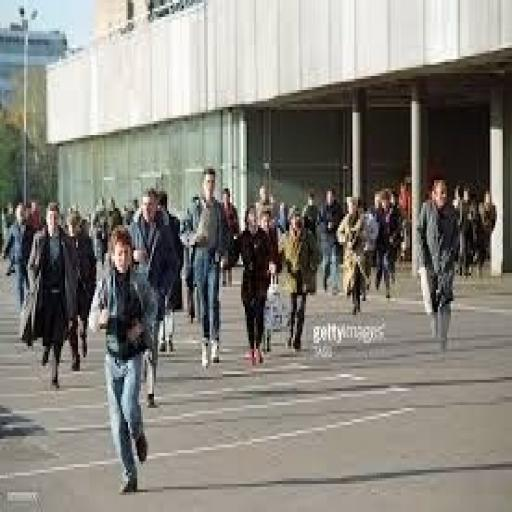running: (86, 222, 162, 498), (22, 197, 84, 391), (182, 164, 232, 372), (414, 174, 466, 354), (232, 200, 278, 368), (274, 206, 322, 354), (334, 191, 378, 318)
